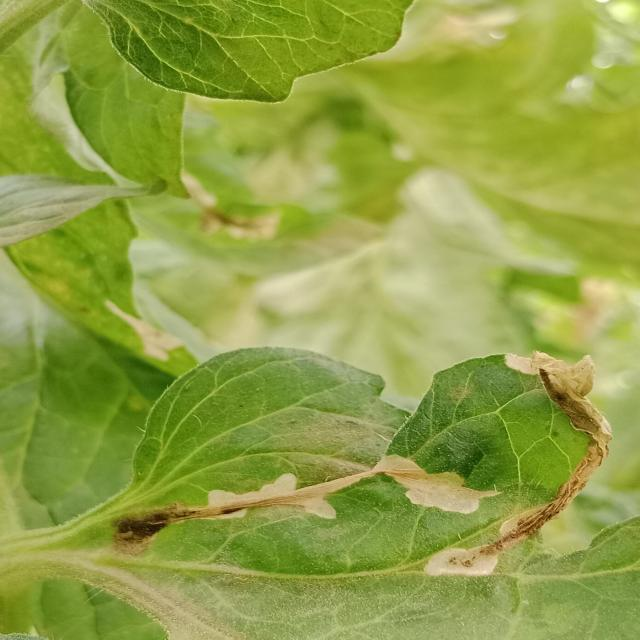Tuta absoluta: (477, 344, 622, 571), (196, 454, 499, 519), (423, 546, 498, 578)
